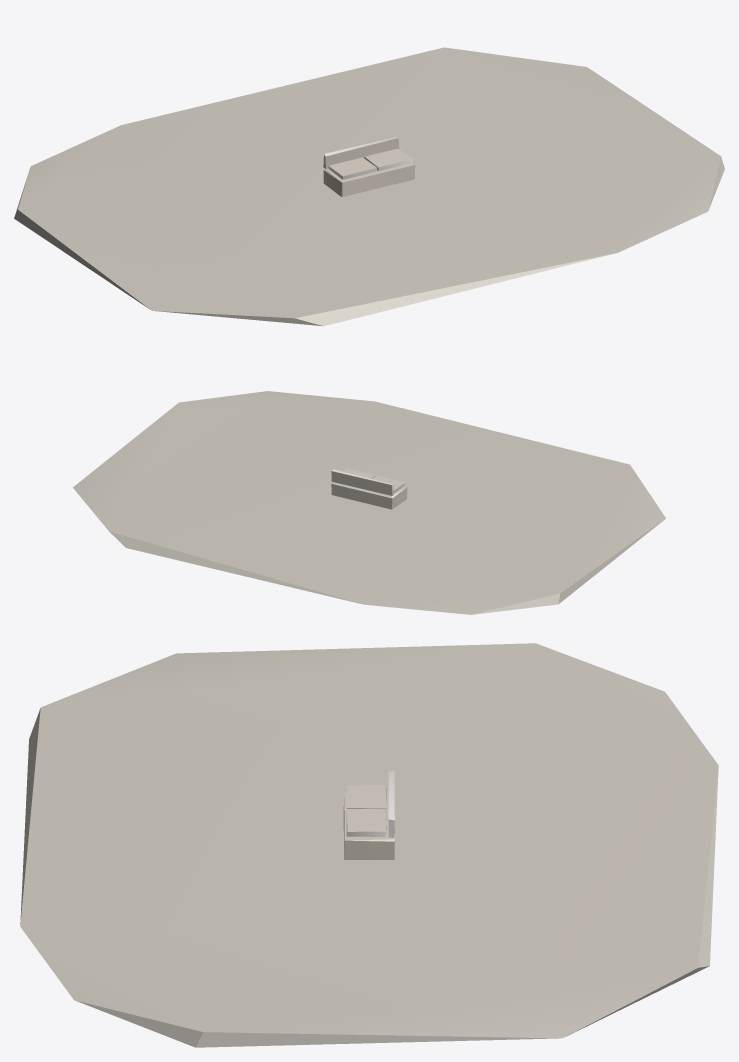
3 renders of one model, top to bottom at view 1: azimuth 30°, elevation 25°; view 2: azimuth 150°, elevation 25°; view 3: azimuth 270°, elevation 25°, orthographic. The views are drawn at different scales.
Parts seen in each view (by area): view 1: T_Floor_LOD1, T_Sofa_LOD1; view 2: T_Floor_LOD1, T_Sofa_LOD1; view 3: T_Floor_LOD1, T_Sofa_LOD1.
Part boxes in pixels (x1,y1,x2,y2): T_Floor_LOD1: (14, 47, 724, 326); T_Sofa_LOD1: (323, 137, 415, 196); T_Floor_LOD1: (73, 391, 665, 614); T_Sofa_LOD1: (331, 468, 407, 509); T_Floor_LOD1: (20, 643, 718, 1047); T_Sofa_LOD1: (343, 771, 394, 859).
Bounding box in the file's own units: 16 × 12 × 1.1.
